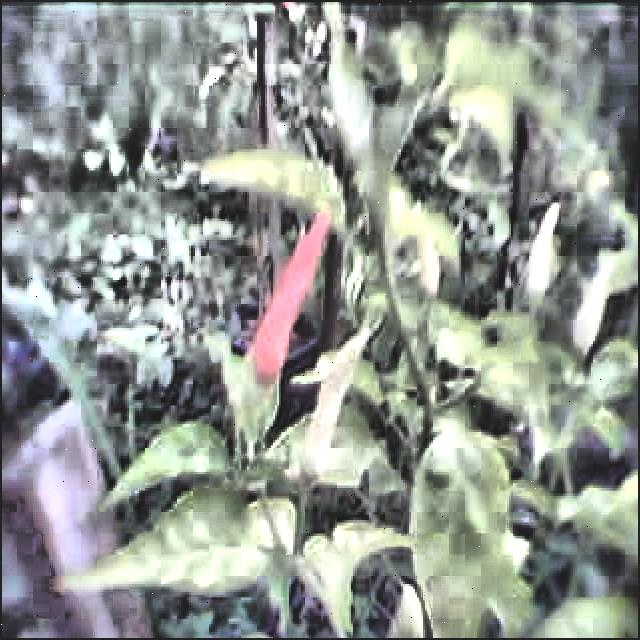Cabai: (245, 214, 321, 393)
